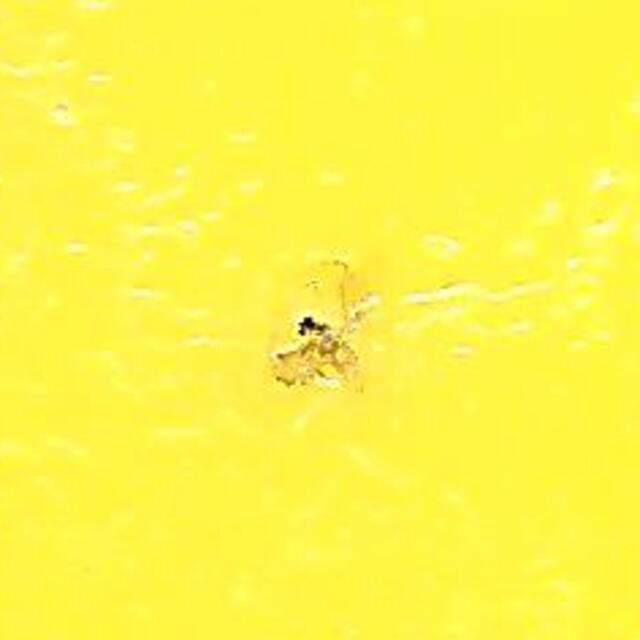Nematocera: (271, 260, 369, 380)
